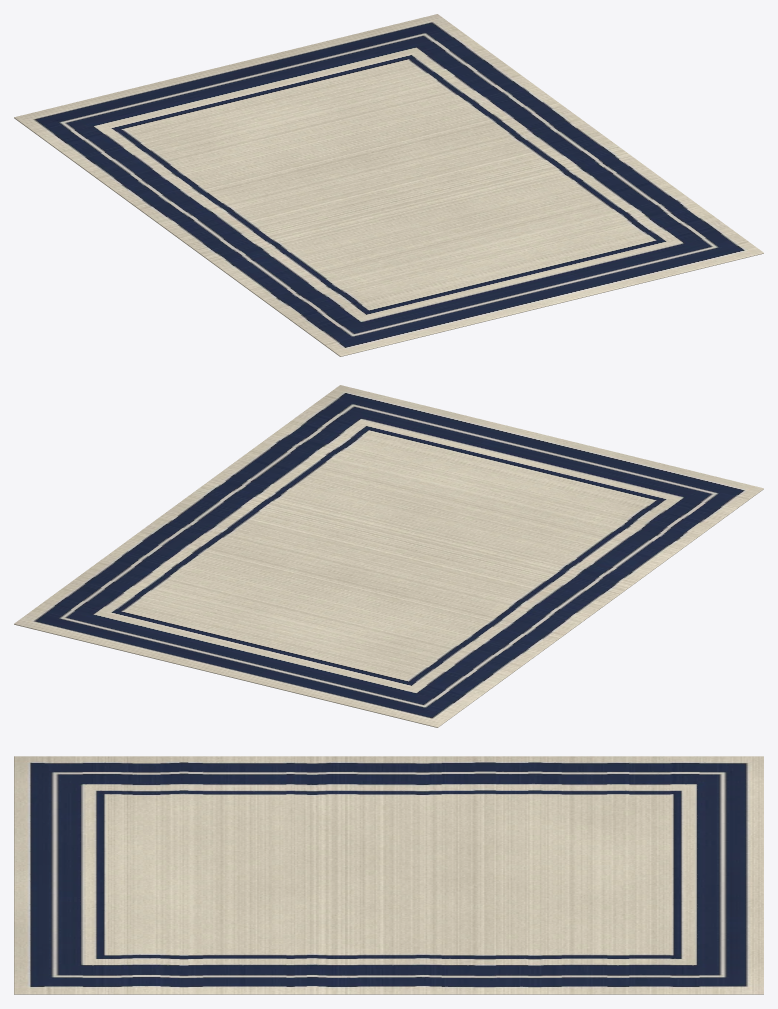
The model's file is rug-farmhouse-border.lite.b1b6a3d1.glb.
3 renders of one model, top to bottom at view 1: azimuth 30°, elevation 25°; view 2: azimuth 150°, elevation 25°; view 3: azimuth 270°, elevation 25°, orthographic. The views are drawn at different scales.
Visible parts, largest first — view 1: rug-farmhouse-border; view 2: rug-farmhouse-border; view 3: rug-farmhouse-border.
Boxes of the visible parts, left/top/right/bottom form: rug-farmhouse-border: left=14, top=14, right=763, bottom=356; rug-farmhouse-border: left=14, top=385, right=763, bottom=727; rug-farmhouse-border: left=14, top=756, right=763, bottom=994.
Size of the model in its own units: 1.5 by 0.004 by 2.
1 material, 1 textured.
